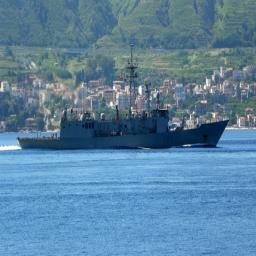Fragata: (16, 43, 233, 153)
